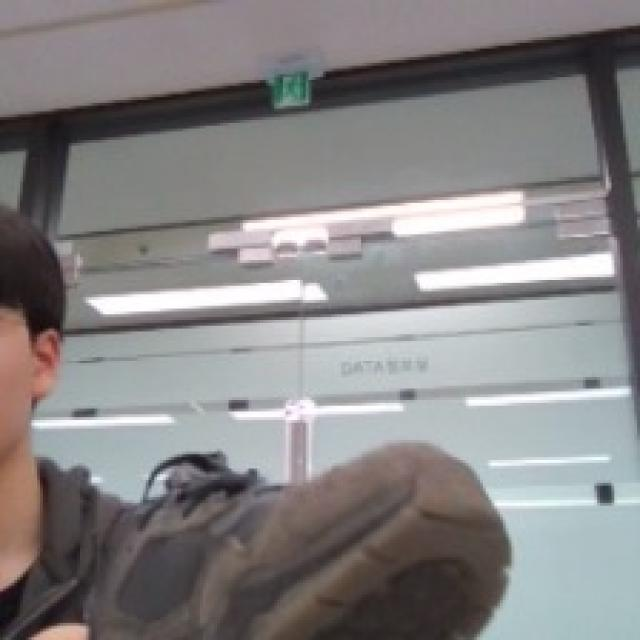shoe: (37, 275, 596, 640)
